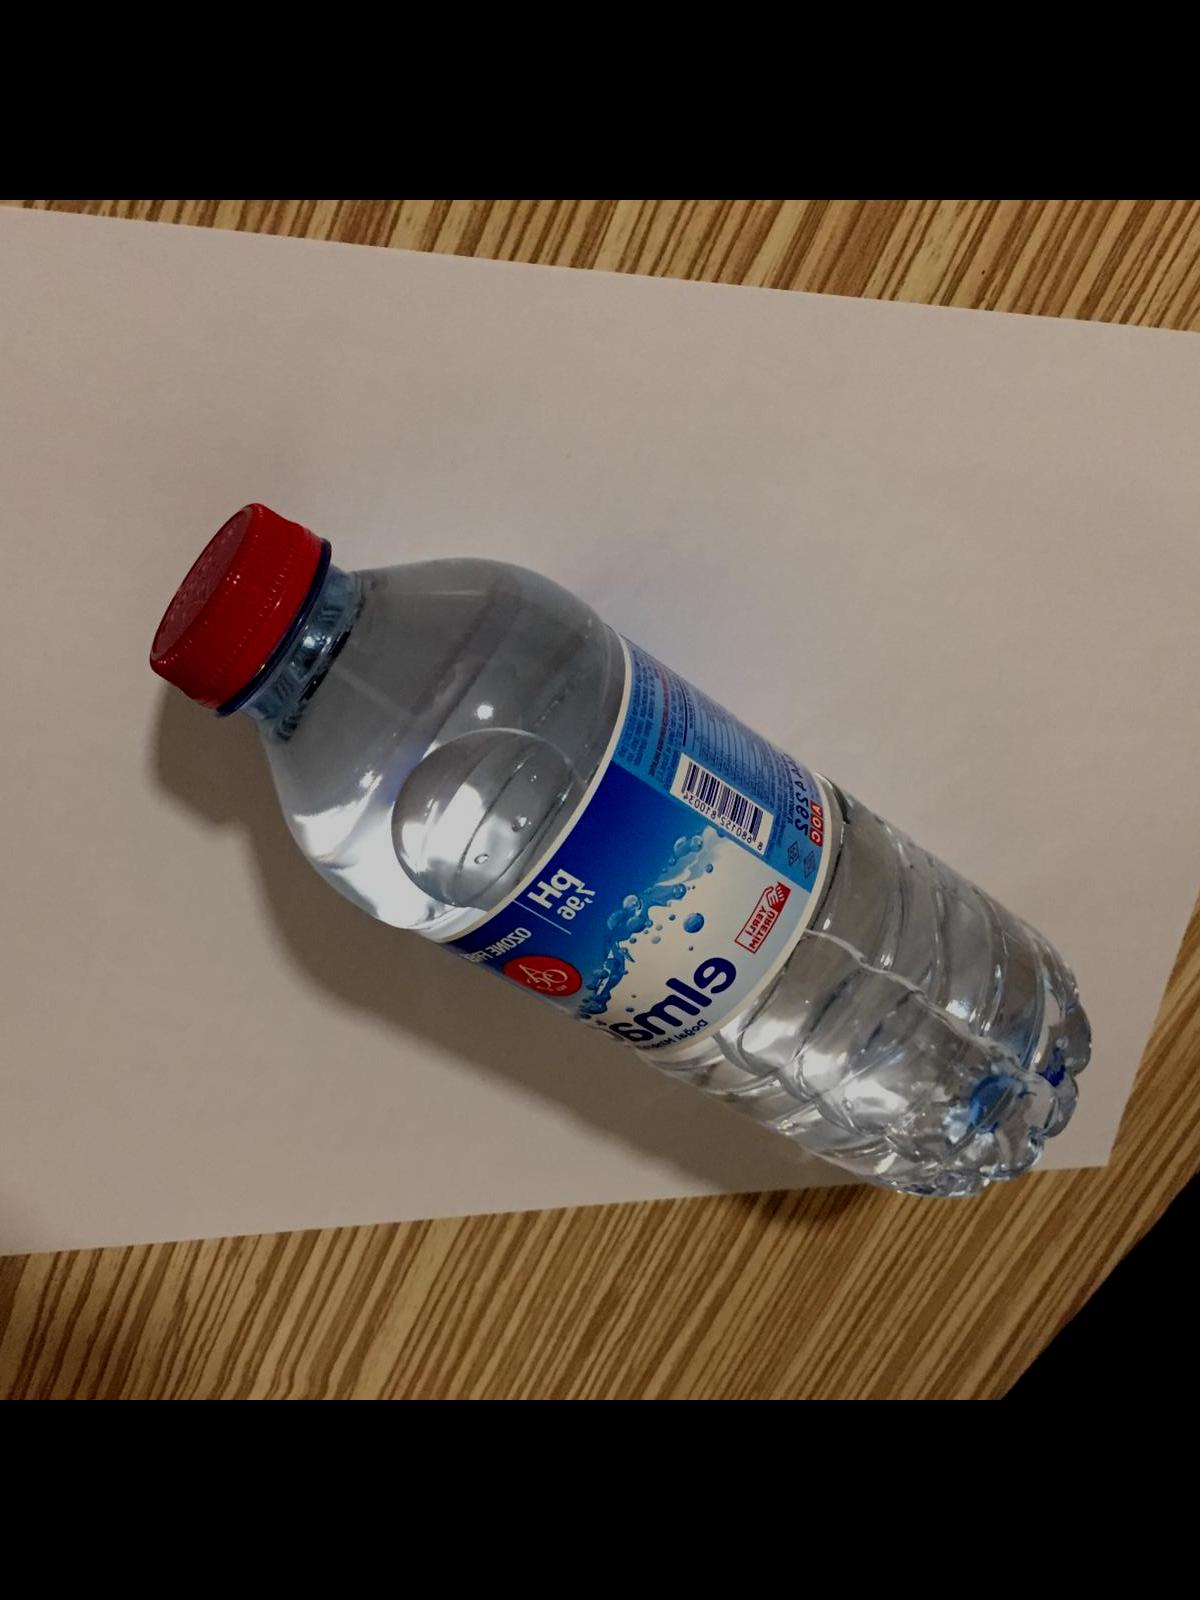bottle: (147, 499, 1095, 1193)
